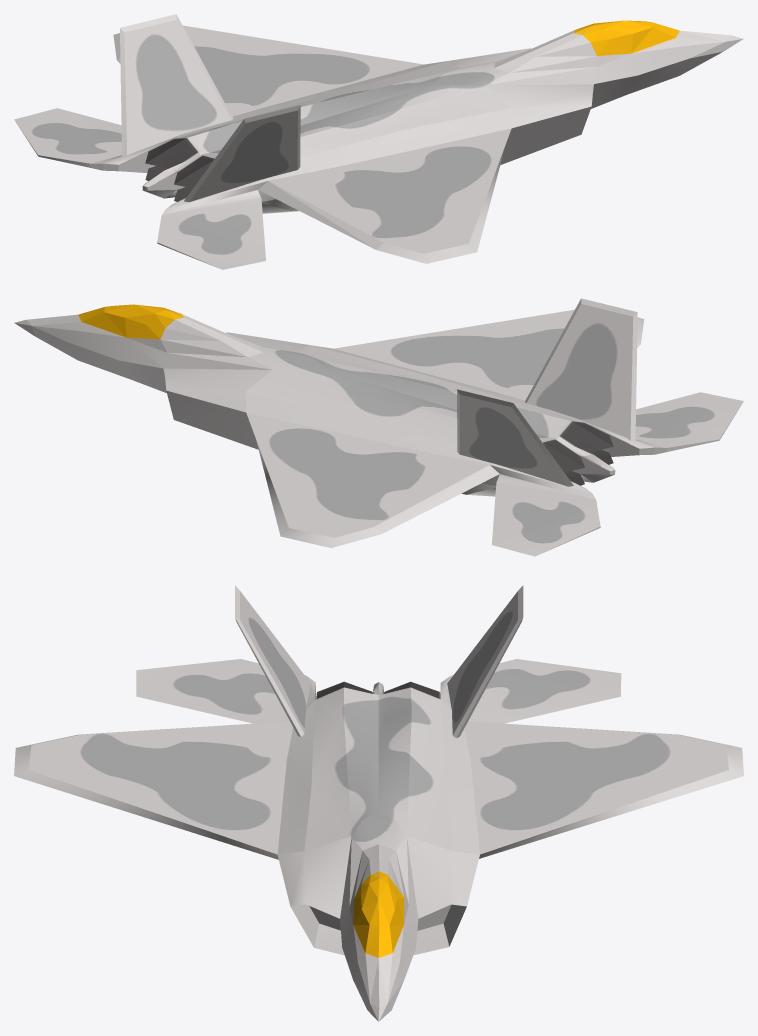
Rendered from f22raptor.glb.
3 views of the same model, one above another, from view 1: azimuth 30°, elevation 25°; view 2: azimuth 150°, elevation 25°; view 3: azimuth 270°, elevation 25° (orthographic). The views are drawn at different scales.
Parts seen in each view (by area): view 1: Jet_03_Body; view 2: Jet_03_Body; view 3: Jet_03_Body.
Boxes of the visible parts, x1=… form: Jet_03_Body: x1=14, y1=14, x2=743, y2=269; Jet_03_Body: x1=14, y1=298, x2=743, y2=556; Jet_03_Body: x1=14, y1=585, x2=743, y2=1021.
Size of the model in its own units: 1.55 by 0.3327 by 1.31.
1 material, 1 textured.
